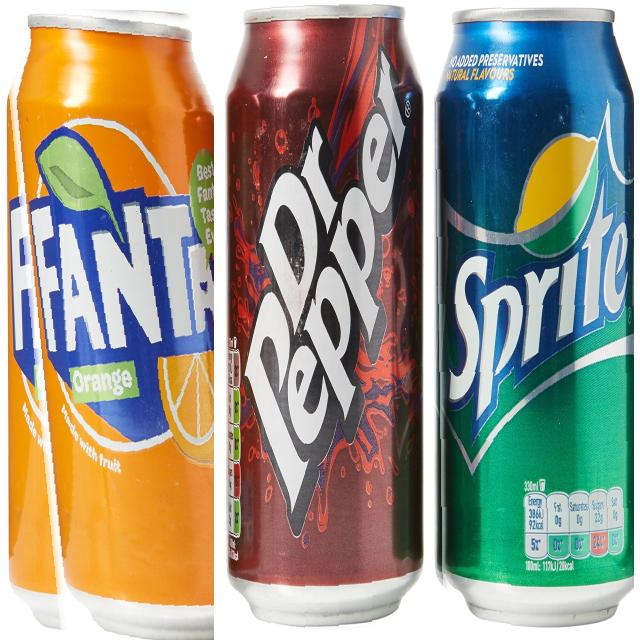Cans: (0, 0, 214, 640), (220, 0, 429, 638), (434, 0, 634, 637)
